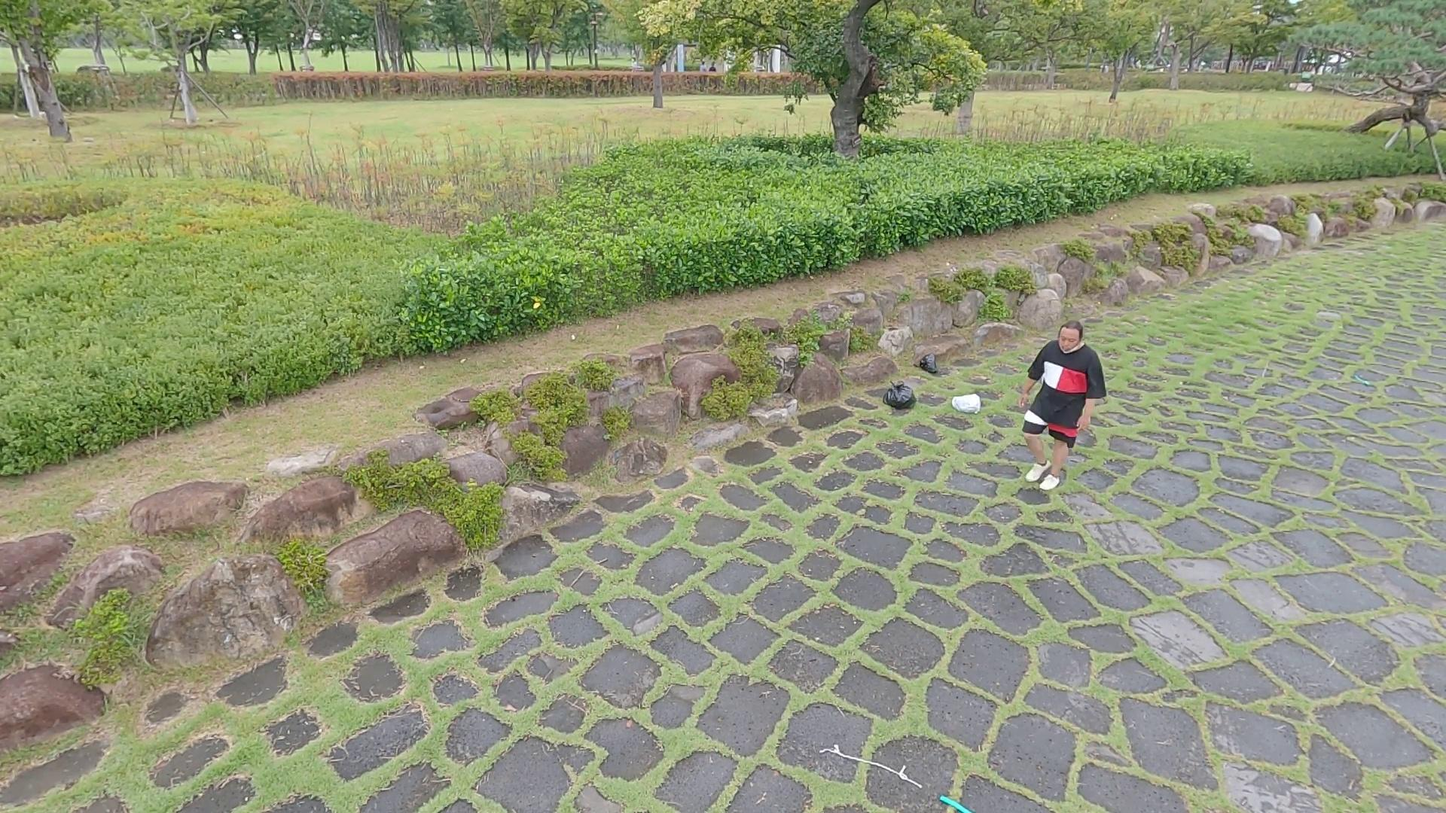person: (1015, 318, 1106, 494)
trash: (883, 376, 916, 414), (949, 391, 985, 415), (913, 348, 940, 378)
